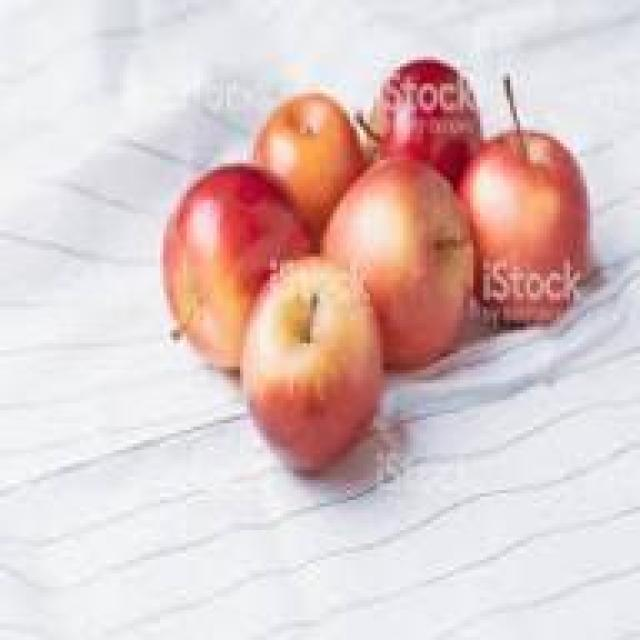apple: (236, 244, 386, 474), (144, 167, 314, 353), (326, 164, 476, 354), (464, 126, 594, 336), (253, 80, 360, 230), (366, 53, 476, 167)
